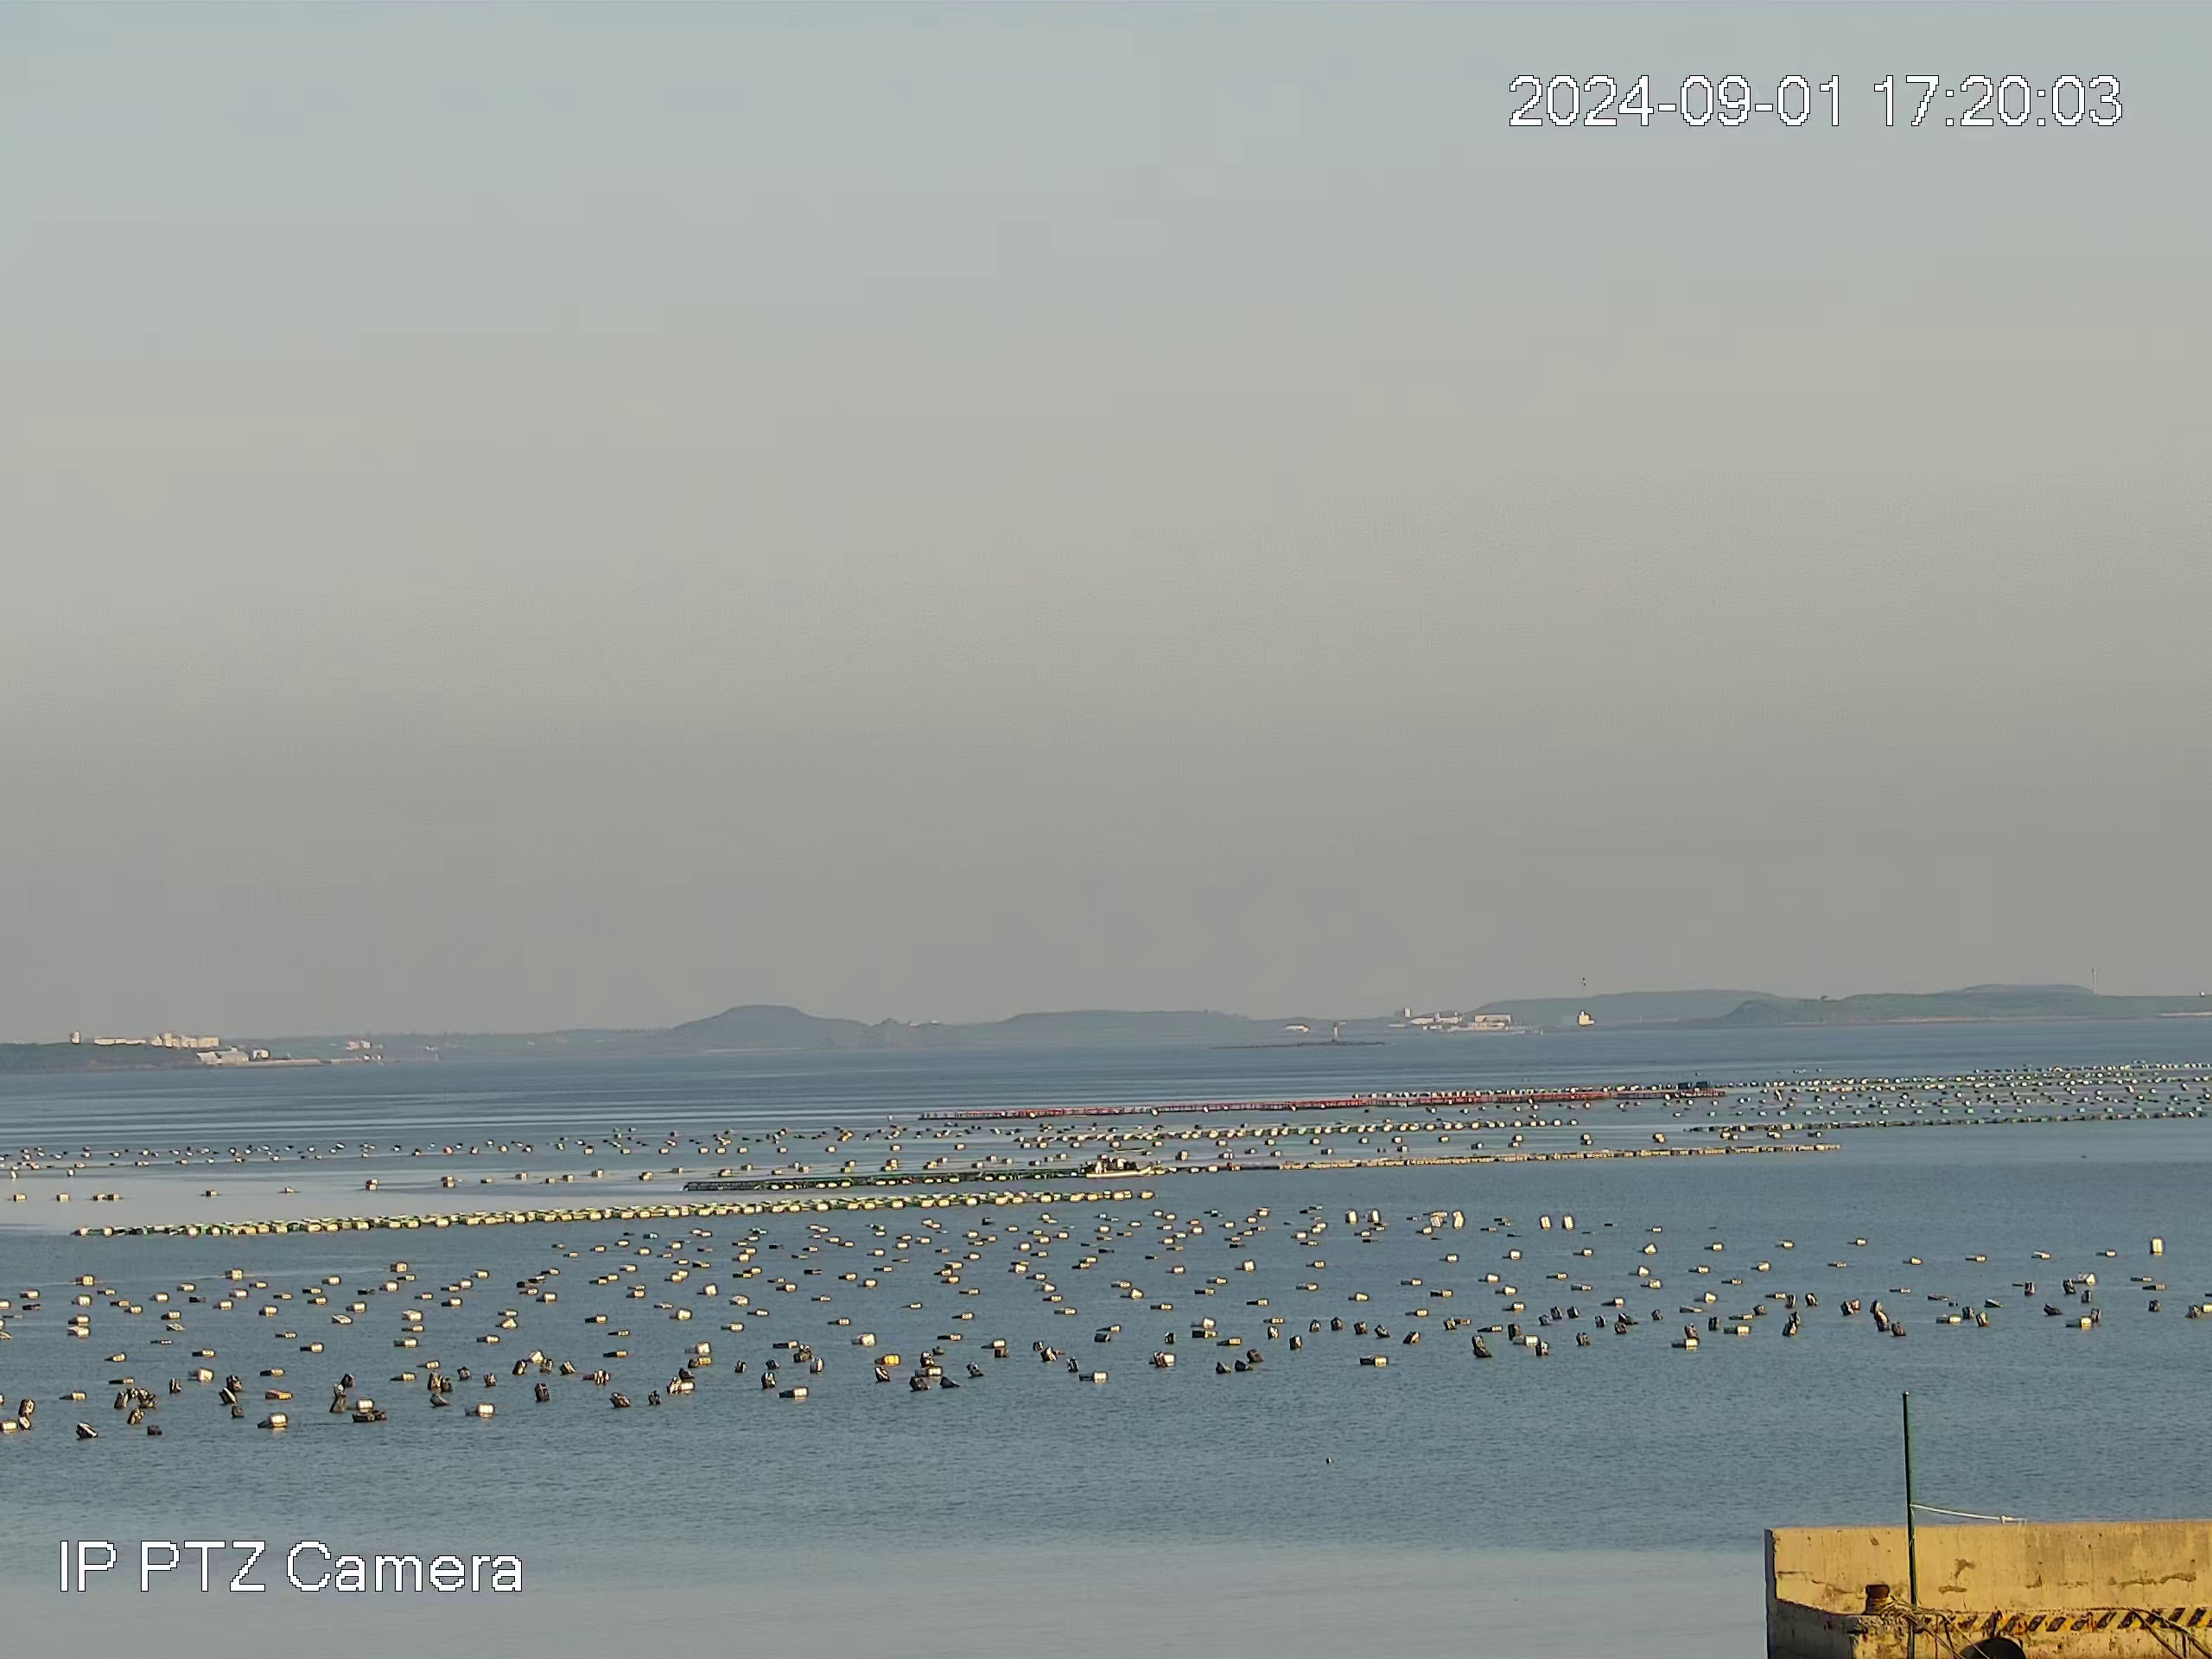boat: (1082, 1150, 1151, 1178)
